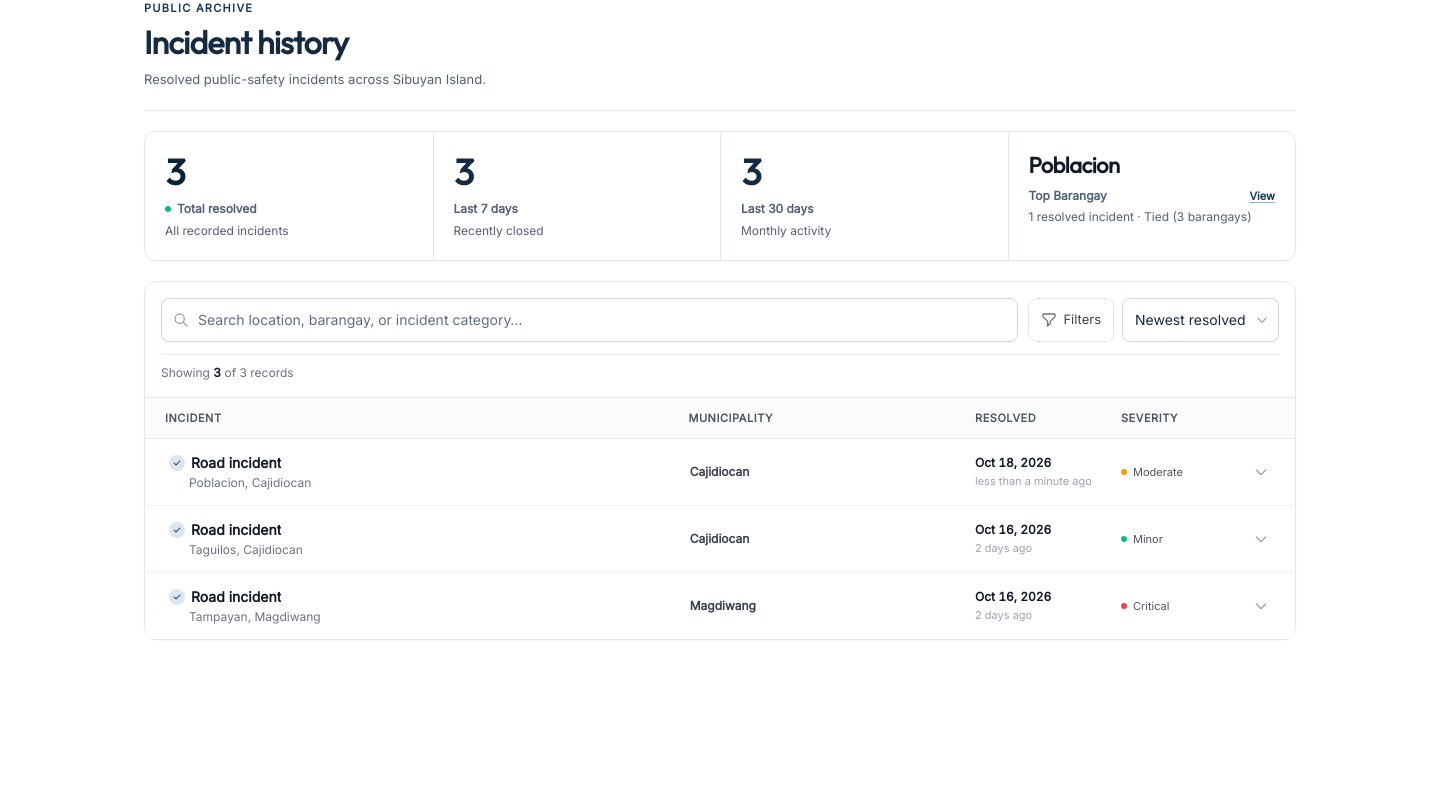
Scenario: AccidentHistoryPage features and filters › records a view once when a dossier is expanded
Expected: the heading "Incident history" is shown, [144,22,348,62]
Click the button with aria-label "Expand details" at (720, 606), box [145,573,1295,639]
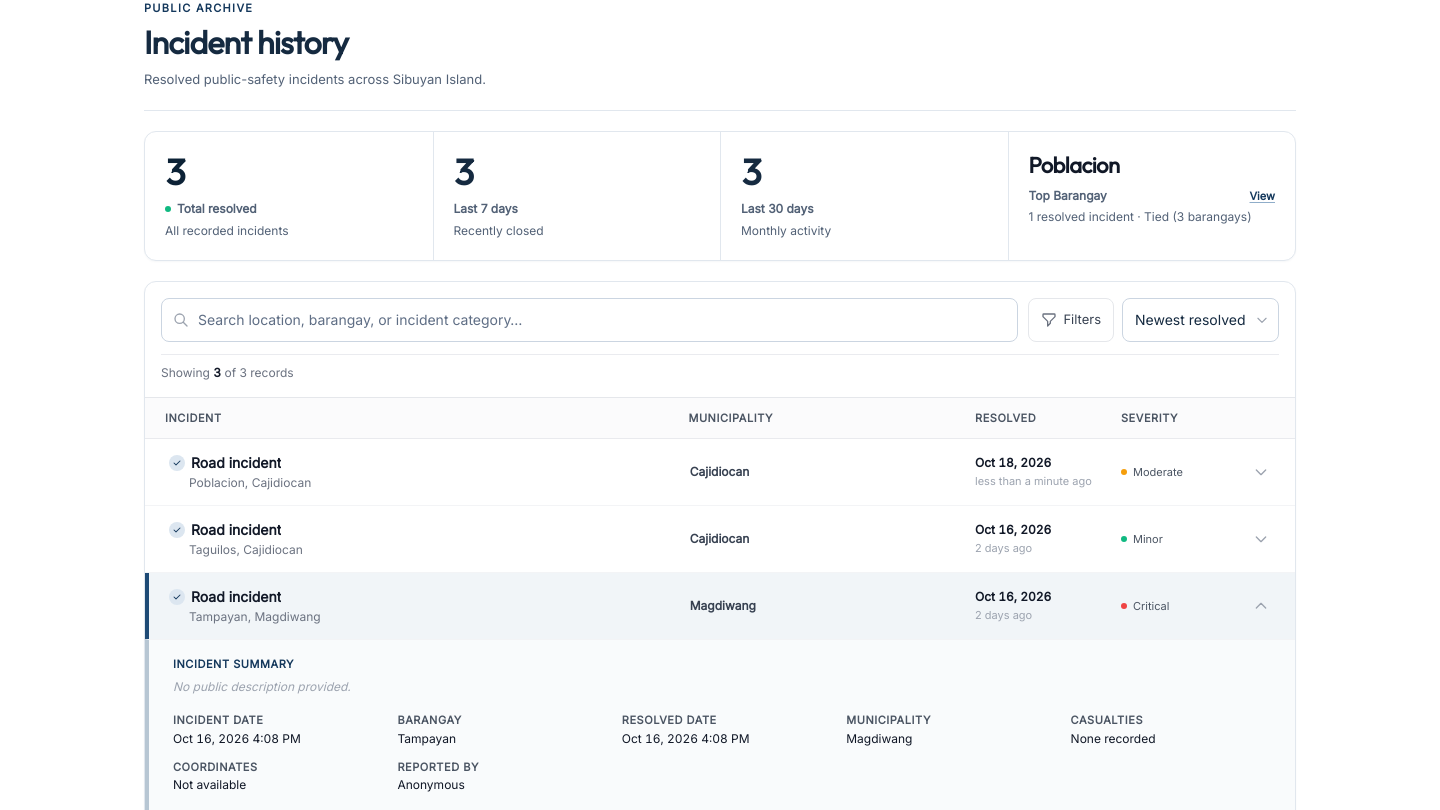
Result: the text "Reported by" is shown at [397,760,479,774]
Collapse and re-expand must not inflate the count.
Click the button with aria-label "Collapse details" at (720, 606), box [145,573,1295,639]
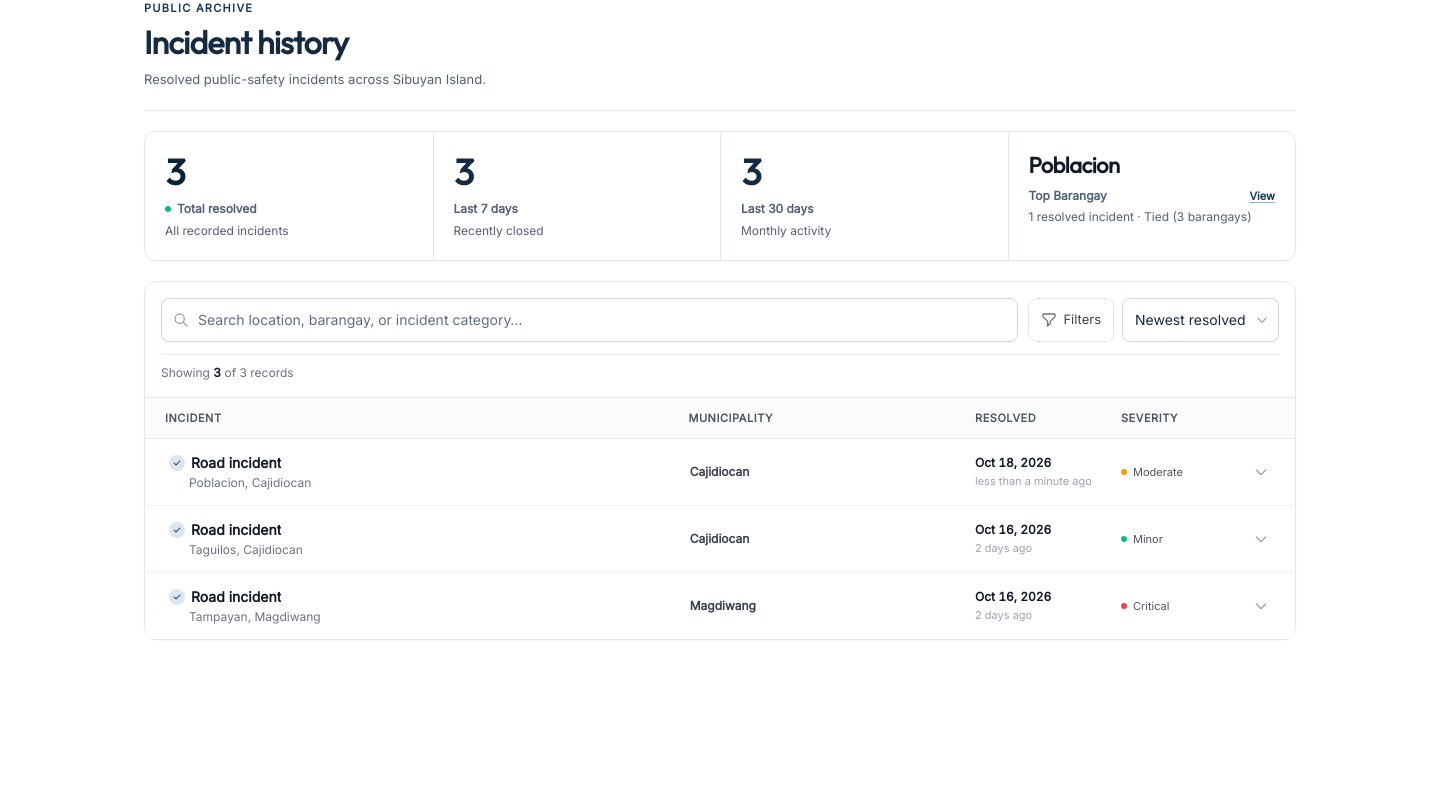
Click the button with aria-label "Expand details" at (720, 606), box [145,573,1295,639]
(page scrolled)
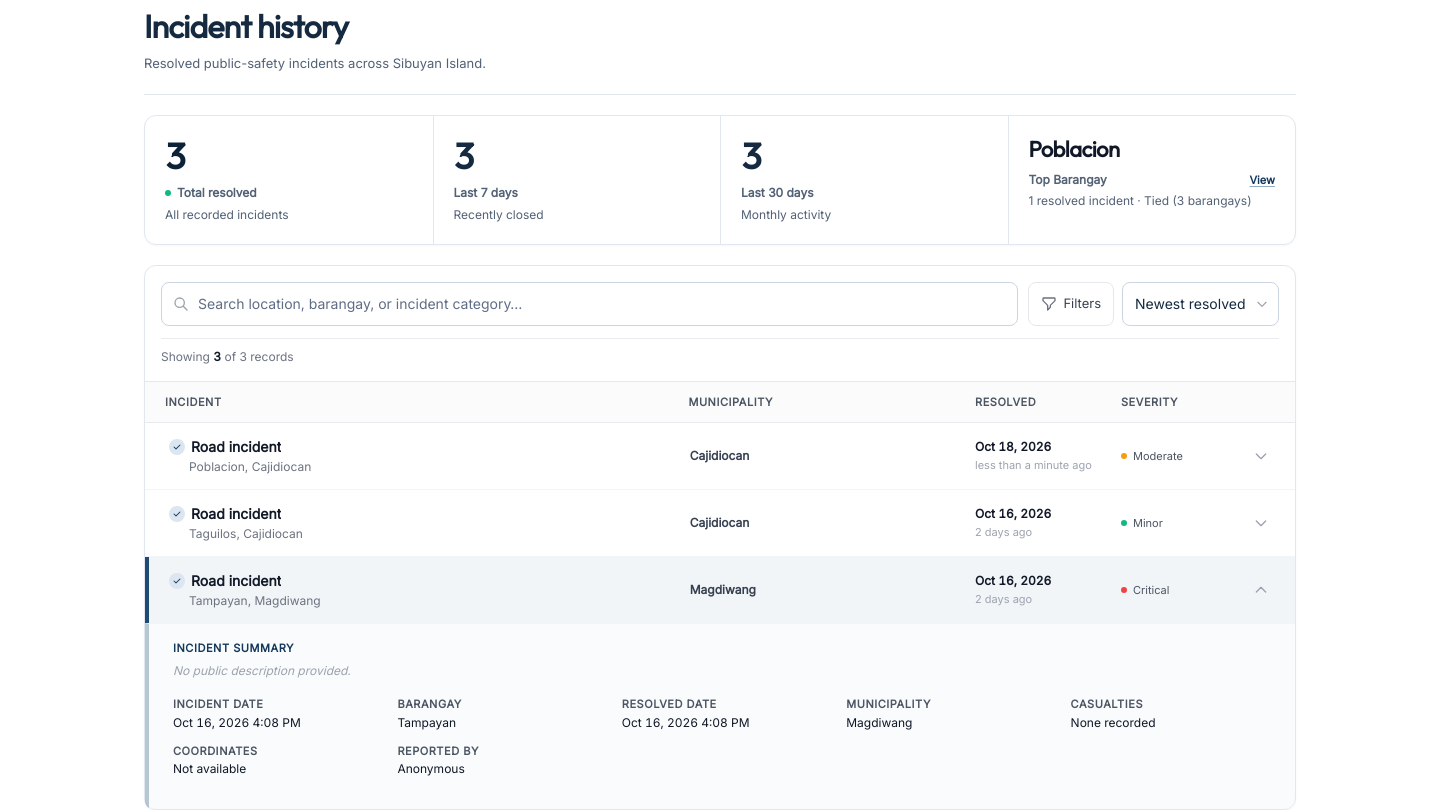
Result: the button with aria-label "Collapse details" is shown at [145,557,1295,623]
